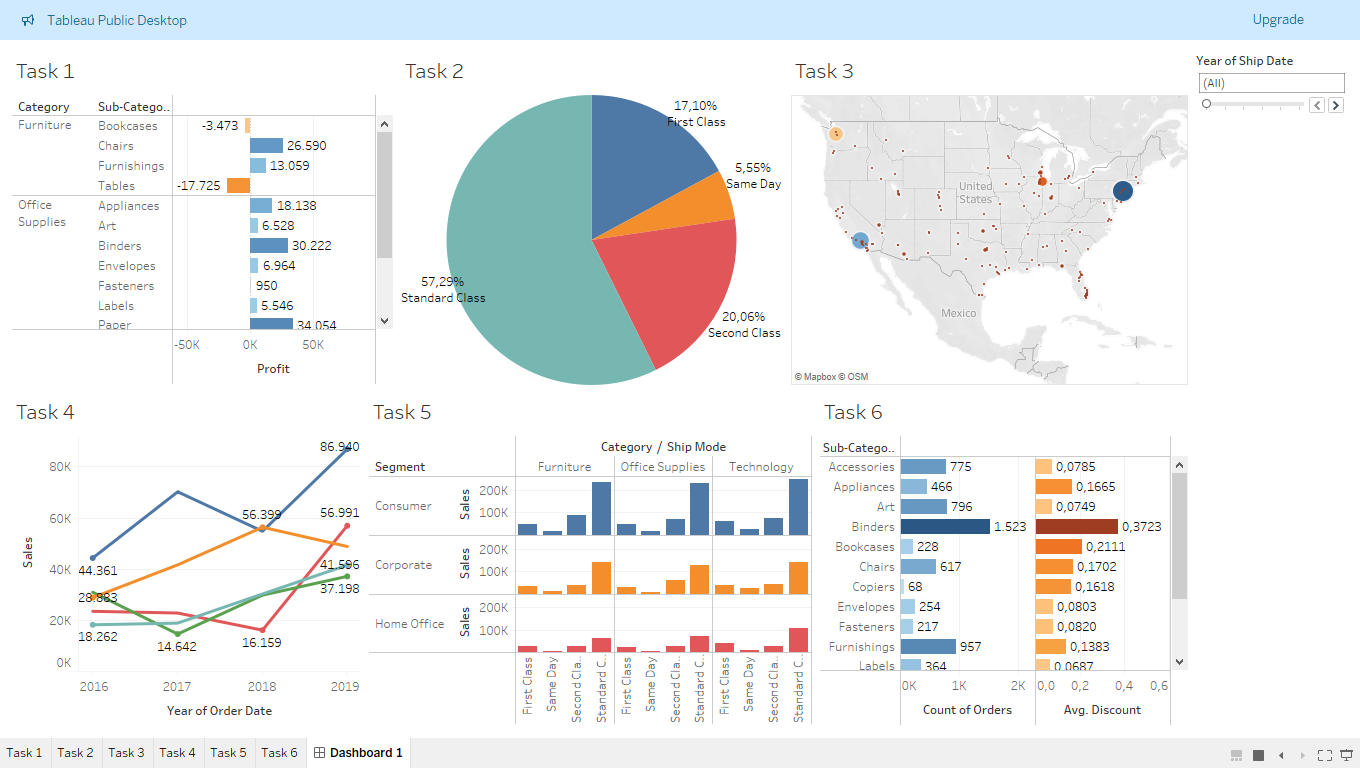

The dashboard page shown, as its layout file describes it:
{"tool":"tableau","page":{"name":"Dashboard 1","canvas":[1000,1000],"units":"permille","ordinal":0},"visuals":[{"type":"worksheet","title":"Task 1","mark":"Automatic","rows":["Category","Sub-Category"],"cols":["Profit"],"box":[7,14.5,278.5,485.5]},{"type":"worksheet","title":"Task 2","mark":"Pie","box":[285.5,14.5,278.5,485.5]},{"type":"worksheet","title":"Task 3","mark":"Automatic","box":[564,14.5,289.8,485.5]},{"type":"filter","title":"Task 1","param":"[federated.1sodtro1ti7ha61c9f4710bekdm6].[yr:Ship Date:ok]","box":[853.8,14.5,139.2,135.9]},{"type":"worksheet","title":"Task 4","mark":"Automatic","rows":["Sales"],"cols":["Order Date"],"box":[7,500,255,485.5]},{"type":"worksheet","title":"Task 5","mark":"Automatic","rows":["Segment","Sales"],"cols":["Category","Ship Mode"],"box":[262,500,322.9,485.5]},{"type":"worksheet","title":"Task 6","mark":"Automatic","rows":["Sub-Category"],"cols":["Orders_B622ABB6509344A78667632E95774A57","Discount"],"box":[584.9,500,268.9,485.5]}]}

Visuals, with their boxes on the dashboard's canvas, which has no fixed pixel size, in thousandths of its width and height (x1, y1, x2, y2). These are canvas units, not pixel positions in the 1360x768 screenshot, which may show the page scaled, cropped or inside an application window:
"Task 1" worksheet: (7, 14, 286, 500)
"Task 2" worksheet (Pie marks): (286, 14, 564, 500)
"Task 3" worksheet: (564, 14, 854, 500)
"Task 1" filter: (854, 14, 993, 150)
"Task 4" worksheet: (7, 500, 262, 986)
"Task 5" worksheet: (262, 500, 585, 986)
"Task 6" worksheet: (585, 500, 854, 986)
